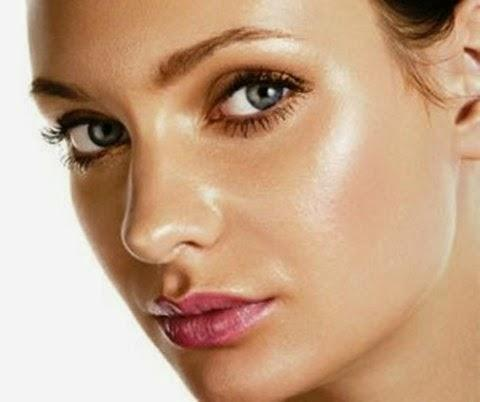Oily-Skin: (307, 55, 366, 242), (243, 2, 299, 52), (133, 101, 195, 144), (194, 184, 230, 220), (125, 224, 182, 246), (269, 261, 296, 286)
